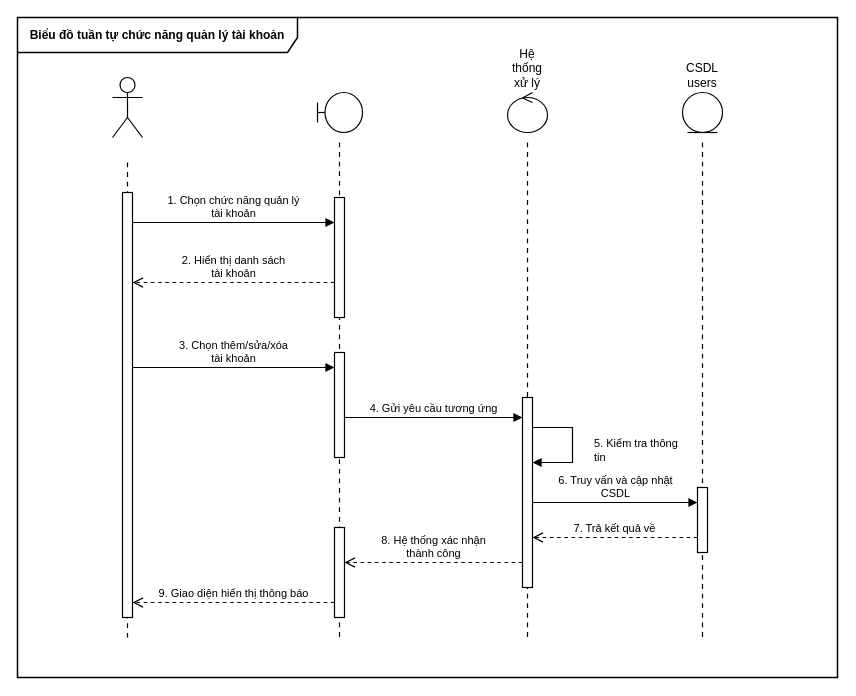
This 856x696 diagram has some shape labels left out. The shapes that lost their labels are listed below. From the top down, each one's centre as x and y in pixels, then its label:
At point (127, 107): "Admin".
At point (339, 112): "Giao diện quản lý tài khoản".
